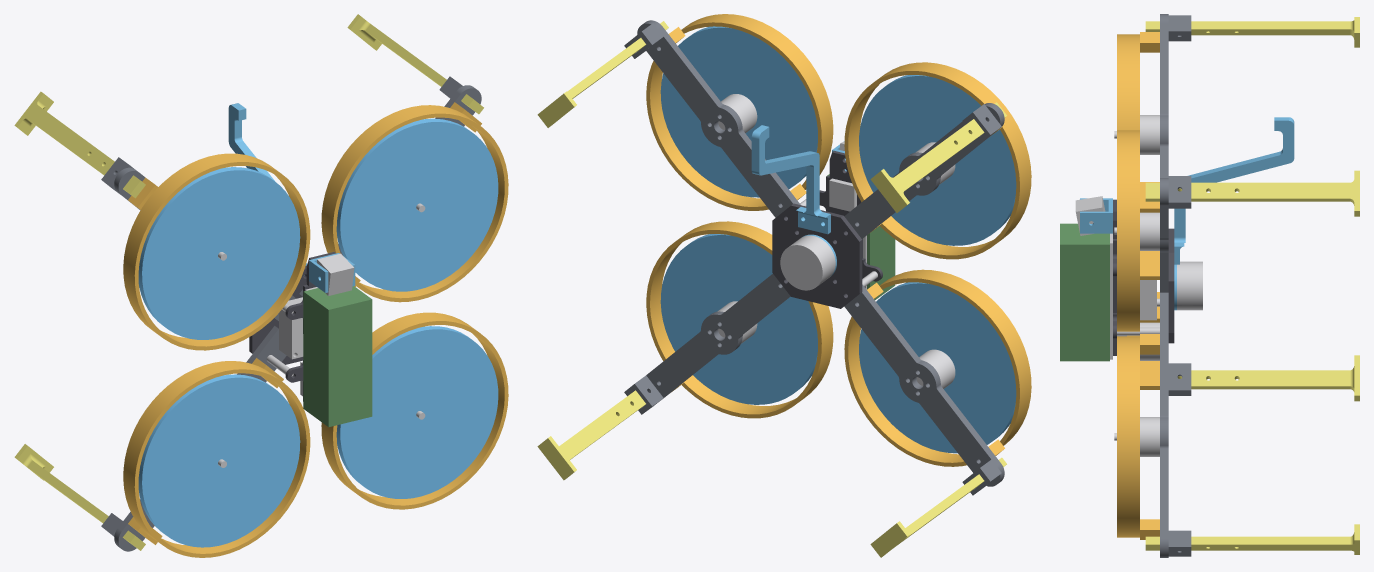
Rendered from drone.glb.
The picture shows the model from 3 angles, left to right: view 1: azimuth 30°, elevation 25°; view 2: azimuth 150°, elevation 25°; view 3: azimuth 270°, elevation 25°; orthographic projection.
Visible parts, largest first — view 1: Propeller 3 (rear left), Propeller 2 (front left), Propeller 1 (front right), Propeller 4 (rear right), Battery, Prop guard 3 (rear left), Prop guard 2 (front left), Prop guard 1 (front right), Prop guard 4 (rear right), Leg 2 (front left), Arm 3 (rear left), Leg 1 (front right) (+9 smaller); view 2: Propeller 4 (rear right), Propeller 2 (front left), Propeller 3 (rear left), Propeller 1 (front right), Prop guard 3 (rear left), Prop guard 1 (front right), Prop guard 2 (front left), Arm 3 (rear left), Arm 1 (front right), Prop guard 4 (rear right), Arm 4 (rear right), Bottom plate (+12 smaller); view 3: Battery, Prop guard 1 (front right), Prop guard 4 (rear right), Leg 1 (front right), Leg 3 (rear left), Arm 4 (rear right), Leg 4 (rear right), Leg 2 (front left), Prop guard 2 (front left), Hook, Arm 2 (front left), Arm 1 (front right) (+12 smaller).
Boxes of the visible parts, x1,y1,x2,y2 form: Propeller 3 (rear left): (138, 374, 300, 547); Propeller 2 (front left): (138, 167, 300, 339); Propeller 1 (front right): (336, 118, 498, 291); Propeller 4 (rear right): (336, 326, 498, 498); Battery: (303, 286, 372, 427); Prop guard 3 (rear left): (123, 358, 310, 557); Prop guard 2 (front left): (123, 153, 310, 350); Prop guard 1 (front right): (321, 102, 508, 302); Prop guard 4 (rear right): (321, 312, 508, 509); Leg 2 (front left): (14, 91, 145, 198); Arm 3 (rear left): (101, 326, 286, 551); Leg 1 (front right): (347, 14, 483, 114); Propeller 4 (rear right): (660, 234, 817, 404); Propeller 2 (front left): (859, 75, 1016, 245); Propeller 3 (rear left): (859, 282, 1016, 453); Propeller 1 (front right): (660, 26, 817, 197); Prop guard 3 (rear left): (844, 269, 1031, 466); Prop guard 1 (front right): (646, 14, 833, 210); Prop guard 2 (front left): (844, 62, 1031, 259); Arm 3 (rear left): (836, 280, 1004, 495); Arm 1 (front right): (624, 20, 800, 231); Prop guard 4 (rear right): (646, 221, 833, 418); Arm 4 (rear right): (624, 274, 790, 414); Bottom plate: (772, 203, 862, 308); Battery: (1060, 223, 1109, 361); Prop guard 1 (front right): (1117, 130, 1159, 331); Prop guard 4 (rear right): (1117, 334, 1159, 539); Leg 1 (front right): (1145, 170, 1359, 216); Leg 3 (rear left): (1177, 355, 1359, 401); Arm 4 (rear right): (1160, 300, 1191, 557); Leg 4 (rear right): (1145, 524, 1359, 554); Leg 2 (front left): (1145, 17, 1359, 47); Prop guard 2 (front left): (1117, 32, 1159, 130); Hook: (1174, 117, 1294, 264); Arm 2 (front left): (1160, 14, 1191, 177); Arm 1 (front right): (1160, 176, 1191, 292).
Bounding box in the file's own units: 0.3 × 0.3 × 0.21.
